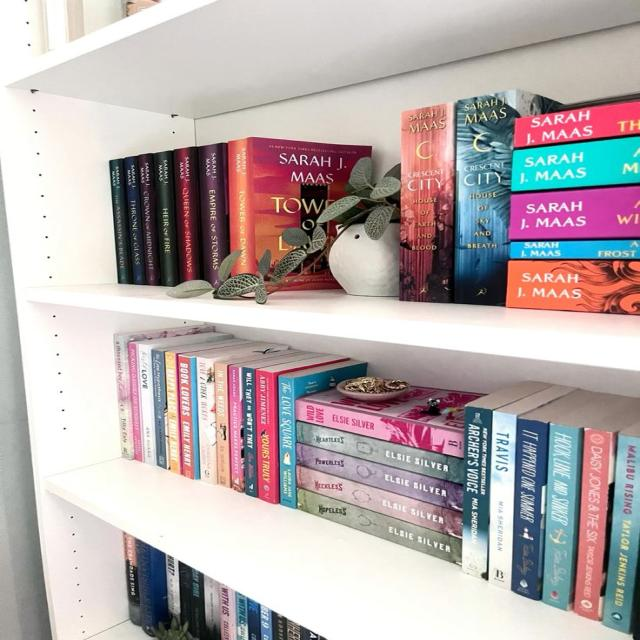book: (452, 91, 560, 305), (228, 137, 371, 278), (114, 325, 220, 459), (461, 386, 531, 579), (295, 386, 480, 457), (278, 359, 366, 508), (299, 489, 461, 563), (297, 466, 460, 538), (298, 444, 462, 511), (400, 103, 454, 302), (255, 361, 329, 503), (297, 422, 462, 483), (570, 428, 617, 620), (602, 423, 639, 633), (542, 423, 582, 610), (505, 259, 639, 314), (509, 186, 639, 241), (512, 136, 639, 191), (511, 419, 548, 600), (514, 100, 639, 148), (488, 410, 517, 589), (199, 144, 229, 286), (243, 361, 270, 497), (197, 352, 223, 483), (136, 340, 163, 464), (174, 149, 199, 281), (154, 151, 178, 286), (215, 358, 238, 487), (124, 157, 145, 284), (178, 354, 199, 479), (138, 155, 158, 285), (110, 159, 130, 283), (152, 345, 170, 468), (228, 363, 243, 492), (128, 341, 142, 461), (166, 352, 179, 474)
plants: (317, 157, 398, 297)
